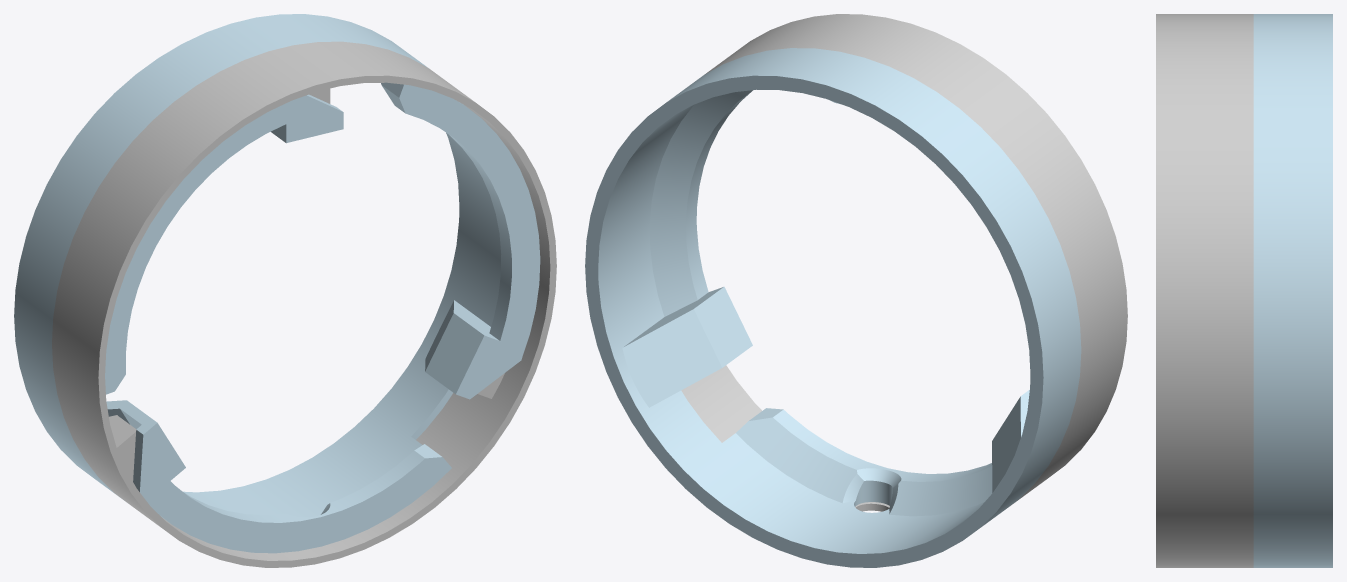
The model's file is Section Connector.gltf.
The picture shows the model from 3 angles, left to right: view 1: azimuth 30°, elevation 25°; view 2: azimuth 150°, elevation 25°; view 3: azimuth 270°, elevation 25°; orthographic projection. The views are drawn at different scales.
Visible parts, largest first — view 1: Part 1, Part 2; view 2: Part 1, Part 2; view 3: Part 2, Part 1.
Boxes of the visible parts, x1=… form: Part 1: x1=14, y1=14, x2=540, y2=553; Part 2: x1=52, y1=41, x2=556, y2=567; Part 1: x1=585, y1=48, x2=1081, y2=567; Part 2: x1=681, y1=14, x2=1127, y2=511; Part 2: x1=1156, y1=14, x2=1253, y2=567; Part 1: x1=1253, y1=14, x2=1332, y2=567.
Bounding box in the file's own units: 0.056 × 0.056 × 0.0179.
